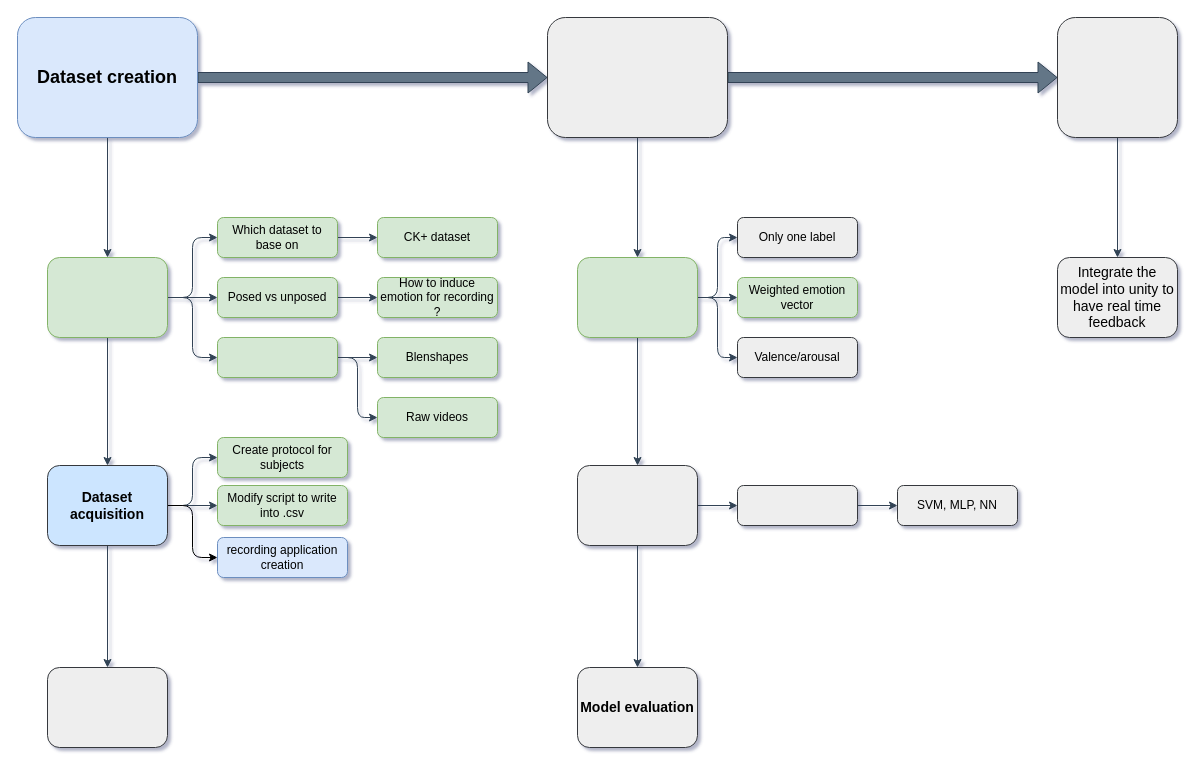
Image size: 1201x771. Some labels were removed from this diagram. The centre of each missing label's shape, as x and y in pixels:
Dataset cleaning: (x=107, y=707)
Dataset model: (x=107, y=297)
Emotion recognition model: (x=637, y=77)
Find the best model + implementation: (x=637, y=505)
Test multiple model: (x=797, y=505)
Unity integration: (x=1117, y=77)
What kind of data to use ?: (x=277, y=357)
What type of output ?: (x=637, y=297)
